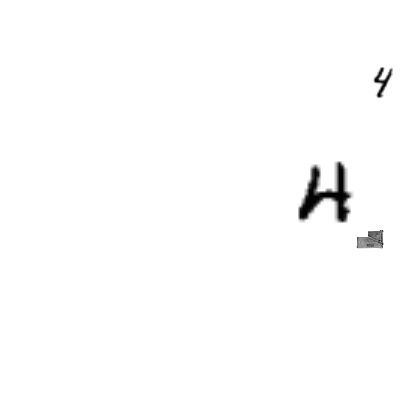4: (284, 153, 368, 237), (361, 60, 403, 102)
Bag: (356, 225, 384, 253)
